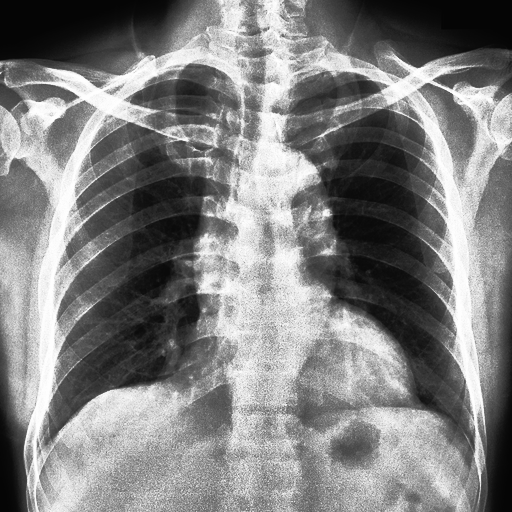Calcification: (466, 433, 484, 477), (297, 67, 333, 84), (170, 61, 210, 69)
Consolidation: (254, 145, 337, 245)
Nodule/Mass: (173, 334, 426, 412)
Pleural effusion: (466, 433, 484, 477)
